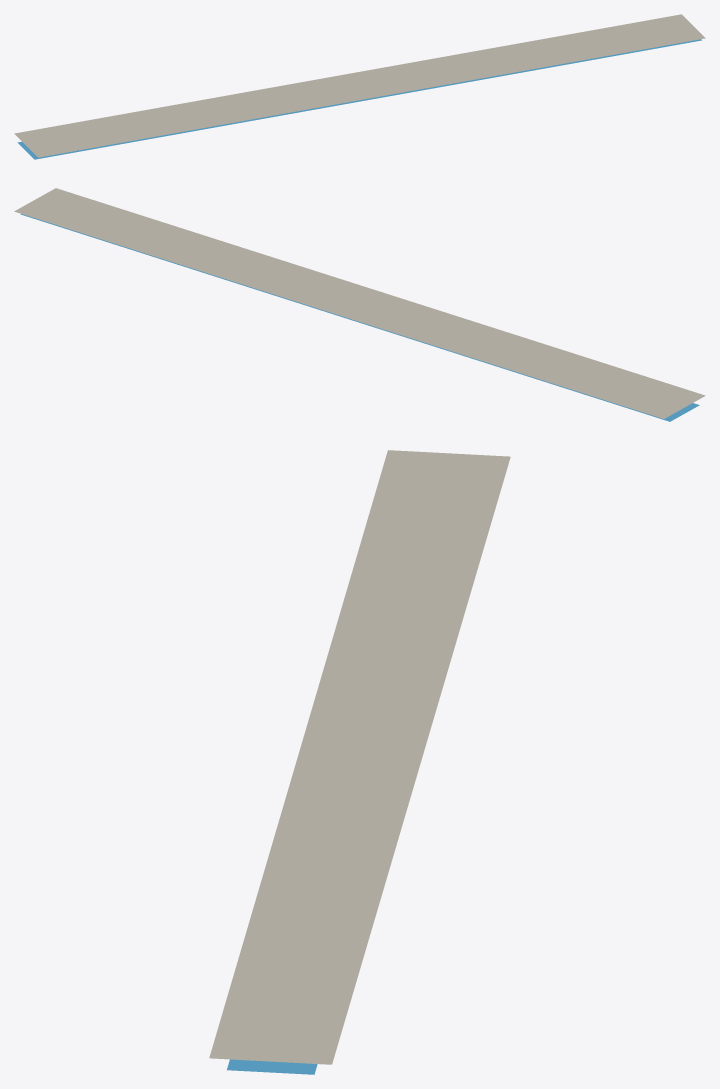
The picture shows the model from 3 angles, top to bottom: view 1: azimuth 30°, elevation 25°; view 2: azimuth 150°, elevation 25°; view 3: azimuth 270°, elevation 25°; orthographic projection. The views are drawn at different scales.
Visible parts, largest first — view 1: estructura_terreno, estructura_agua; view 2: estructura_terreno, estructura_agua; view 3: estructura_terreno, estructura_agua.
Part boxes in pixels (x1=…): estructura_terreno: x1=14, y1=14, x2=705, y2=157; estructura_agua: x1=17, y1=39, x2=701, y2=159; estructura_terreno: x1=14, y1=188, x2=705, y2=418; estructura_agua: x1=20, y1=214, x2=699, y2=421; estructura_terreno: x1=209, y1=450, x2=510, y2=1064; estructura_agua: x1=227, y1=1059, x2=317, y2=1074.
Size of the model in its own units: 49.33 by 0.41 by 10.23.
